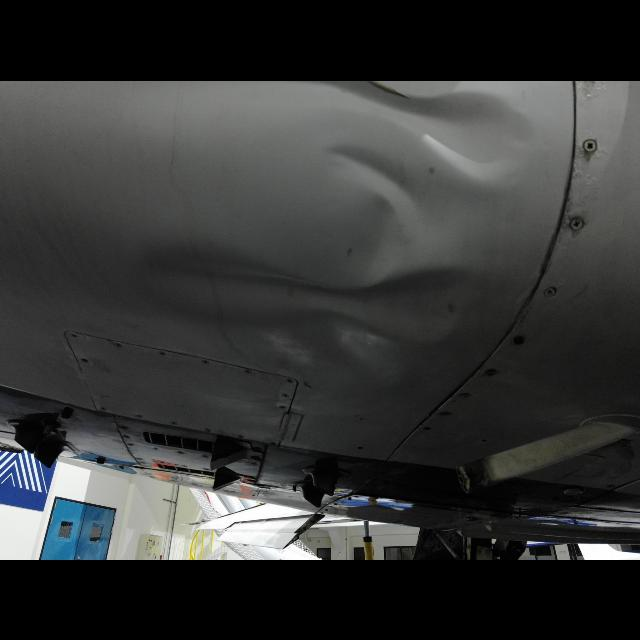dent: (146, 223, 478, 347), (288, 80, 540, 166), (325, 144, 437, 233), (249, 319, 401, 381)
